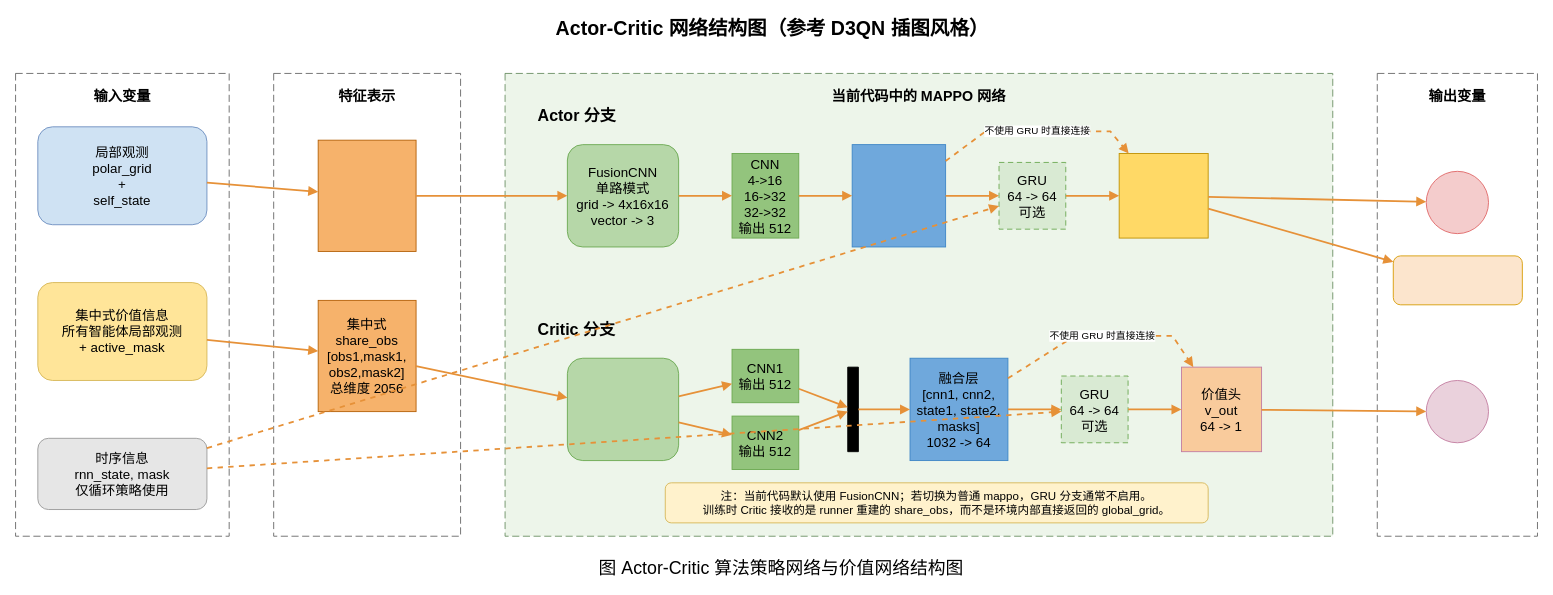
The diagram is 1553 pixels wide and 595 high, and some of its shapes have lost their labels. The shapes that lost their labels are listed below. From the top down, each one's centre as x and y in pixels, then its label:
At (x=366, y=195): "局部观测压平 [grid_flat(1024), self_state(3)] 总维度 1027".
At (x=898, y=195): "融合层 拼接 [CNN, state] 515 -> 64 ReLU + LayerNorm".
At (x=1163, y=195): "动作头 ACTLayer Linear 64 -> 7".
At (x=1457, y=202): "动作 a".
At (x=1457, y=280): "log π(a|s)".
At (x=622, y=409): "FusionCNN 双路模式 agent1 + agent2 + 2 个 mask".
At (x=852, y=409): "拼接".
At (x=1457, y=411): "V(s)".
